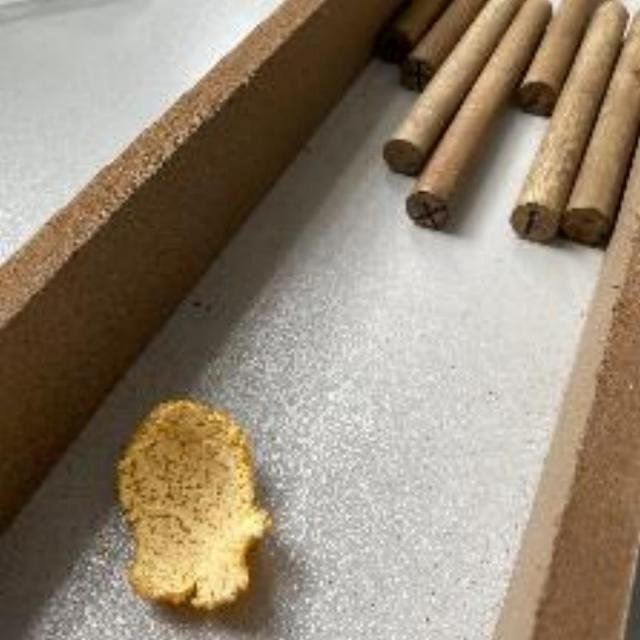orange peel: (102, 394, 275, 612)
